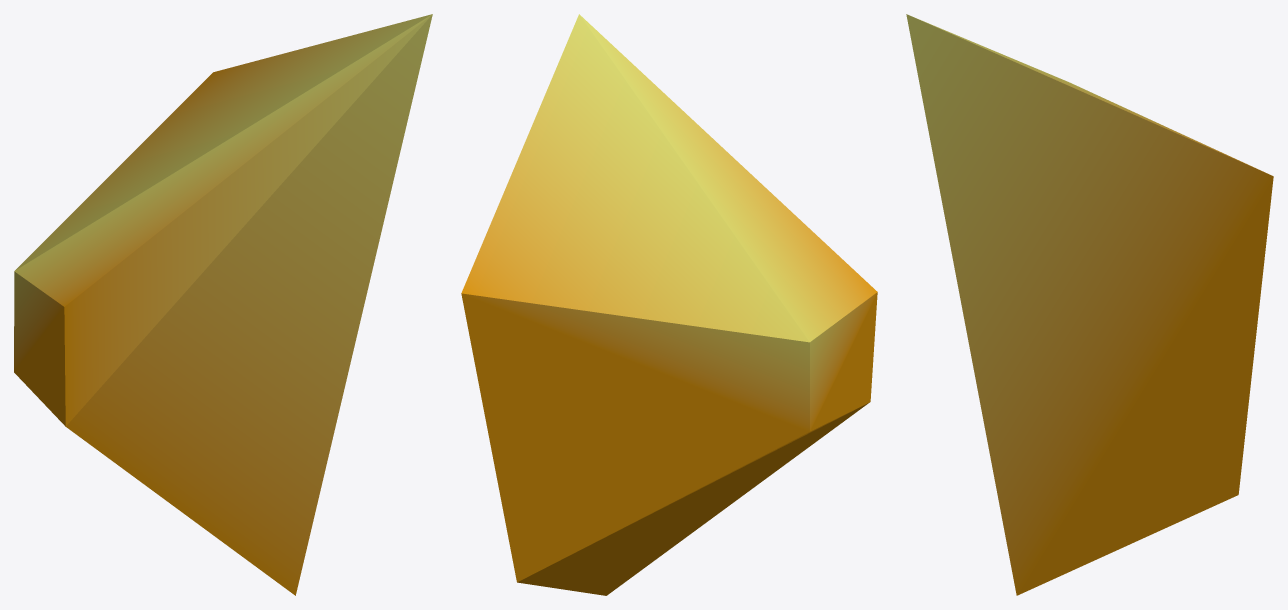
The model's file is obstacle_simple.dae.
The picture shows the model from 3 angles, left to right: view 1: azimuth 30°, elevation 25°; view 2: azimuth 150°, elevation 25°; view 3: azimuth 270°, elevation 25°; orthographic projection. The views are drawn at different scales.
Parts seen in each view (by area): view 1: node; view 2: node; view 3: node.
Boxes of the visible parts, x1,y1,x2,y2 form: node: [14, 14, 432, 595]; node: [461, 14, 877, 595]; node: [906, 14, 1273, 595].
Bounding box in the file's own units: 11.95 × 19.4 × 10.34.
